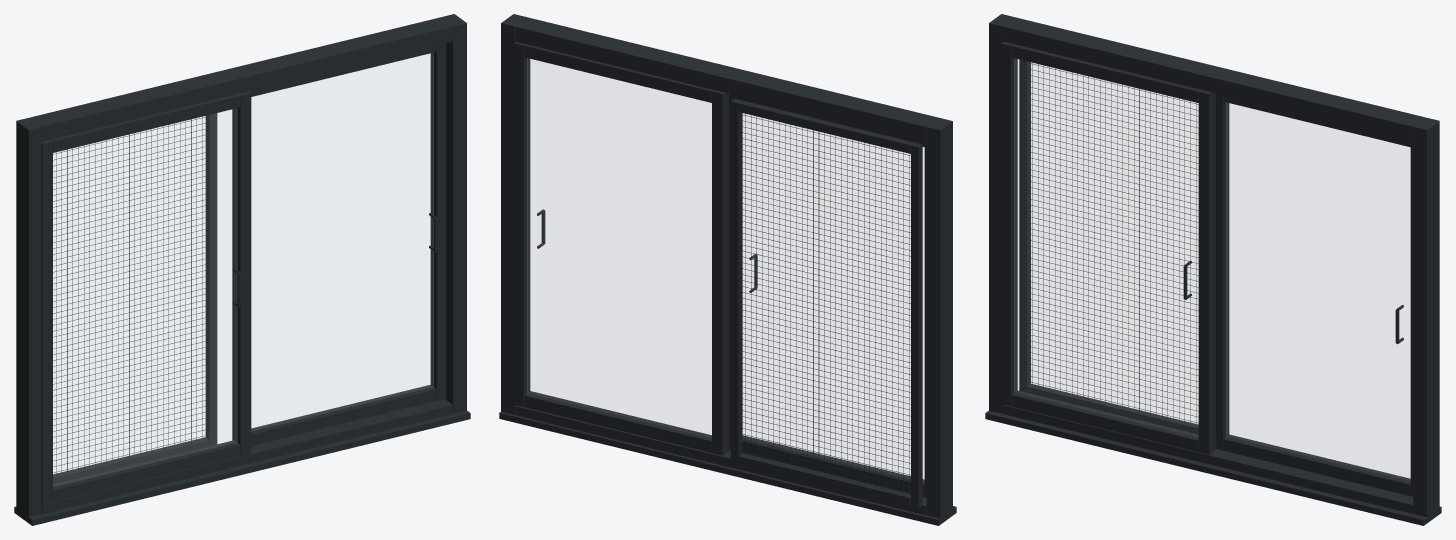
File: black-sliding-glass-window-with-screen-10.glb
The picture shows the model from 3 angles, left to right: view 1: azimuth 30°, elevation 25°; view 2: azimuth 150°, elevation 25°; view 3: azimuth 330°, elevation 25°; orthographic projection.
Visible parts, largest first — view 1: Window / Sliding leaf 1 glass, Window / Sliding leaf 2 glass, Window / Outer jamb, Window / Sliding leaf 1 sash, Window / Sliding insect screen mesh, Window / Sliding leaf 2 sash, Window / Sliding insect screen surround, Window / Sill extrusion, Window / Sliding leaf 1 glazing gasket; view 2: Window / Sliding leaf 2 glass, Window / Sliding leaf 1 glass, Window / Outer jamb, Window / Sliding insect screen mesh, Window / Sliding leaf 2 sash, Window / Sliding insect screen surround, Window / Sliding leaf 1 sash, Window / Sill extrusion; view 3: Window / Sliding leaf 1 glass, Window / Sliding leaf 2 glass, Window / Outer jamb, Window / Sliding leaf 1 sash, Window / Sliding insect screen mesh, Window / Sliding leaf 2 sash, Window / Sliding insect screen surround, Window / Sill extrusion, Window / Sliding leaf 1 glazing gasket.
Part boxes in pixels (x1,y1,x2,y2): Window / Sliding leaf 1 glass: (53,109,236,486); Window / Sliding leaf 2 glass: (252,53,432,430); Window / Outer jamb: (16,14,466,517); Window / Sliding leaf 1 sash: (41,91,251,504); Window / Sliding insect screen mesh: (53,116,207,474); Window / Sliding leaf 2 sash: (232,43,446,445); Window / Sliding insect screen surround: (53,113,217,484); Window / Sill extrusion: (14,410,470,525); Window / Sliding leaf 1 glazing gasket: (53,108,237,487); Window / Sliding leaf 2 glass: (528,59,711,437); Window / Sliding leaf 1 glass: (743,114,923,481); Window / Outer jamb: (501,14,952,518); Window / Sliding insect screen mesh: (741,114,910,495); Window / Sliding leaf 2 sash: (513,42,728,455); Window / Sliding insect screen surround: (730,98,922,508); Window / Sliding leaf 1 sash: (729,93,926,497); Window / Sill extrusion: (499,411,956,525); Window / Sliding leaf 1 glass: (1015,59,1197,436); Window / Sliding leaf 2 glass: (1227,103,1409,480); Window / Outer jamb: (989,14,1439,517); Window / Sliding leaf 1 sash: (1000,42,1215,454); Window / Sliding insect screen mesh: (1029,63,1198,425); Window / Sliding leaf 2 sash: (1215,93,1413,496); Window / Sliding insect screen surround: (1019,59,1198,434); Window / Sill extrusion: (985,410,1441,525); Window / Sliding leaf 1 glazing gasket: (1014,58,1175,431).
Size of the model in its own units: 1.4 by 1.2 by 0.146.
